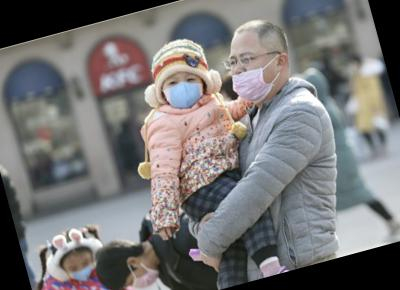mask_weared_incorrect: (221, 42, 288, 111)
with_mask: (159, 68, 210, 114), (122, 264, 166, 290), (64, 254, 98, 286)
